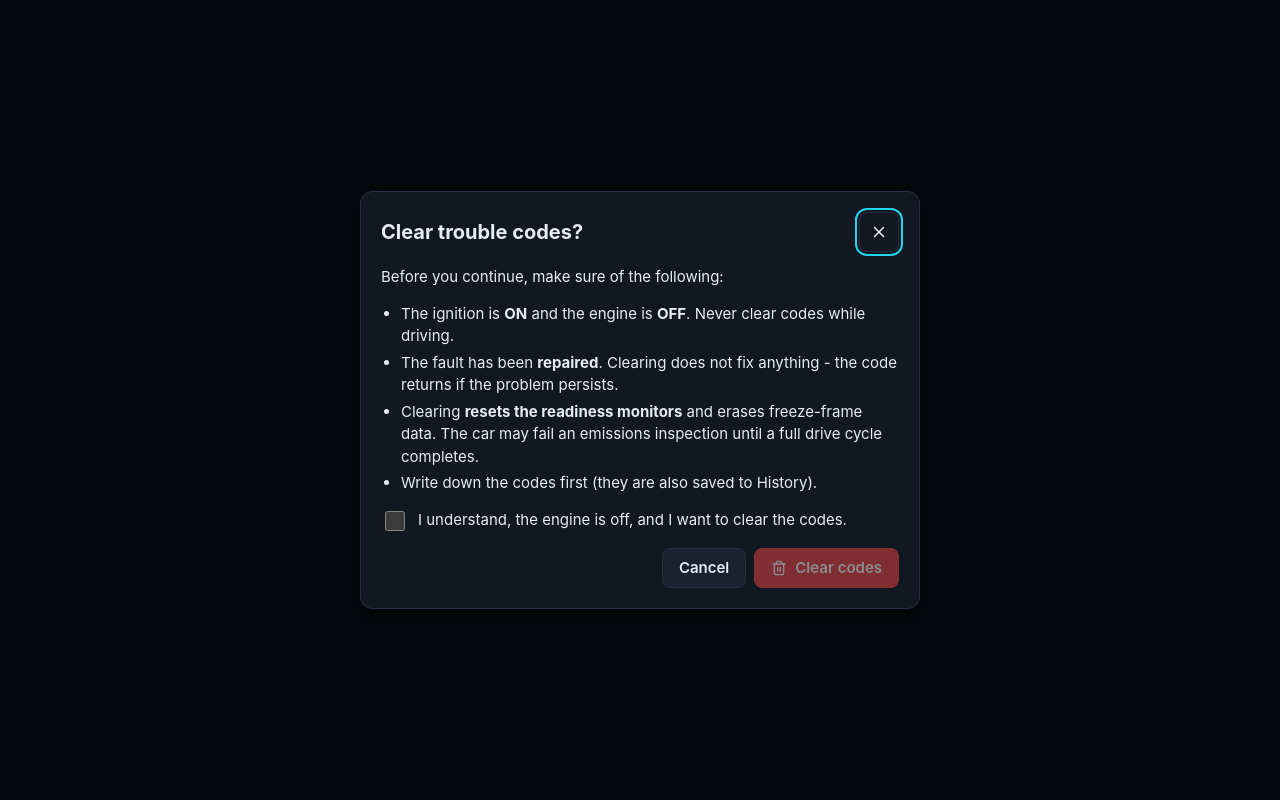
Test: ClearCodesDialog › resets the acknowledgement when re-opened and closes on Escape
The image size is (1280, 800).
Later steps or results of the test are not shown.
Click the checkbox: x=395, y=520 left=385, top=510, right=405, bottom=530
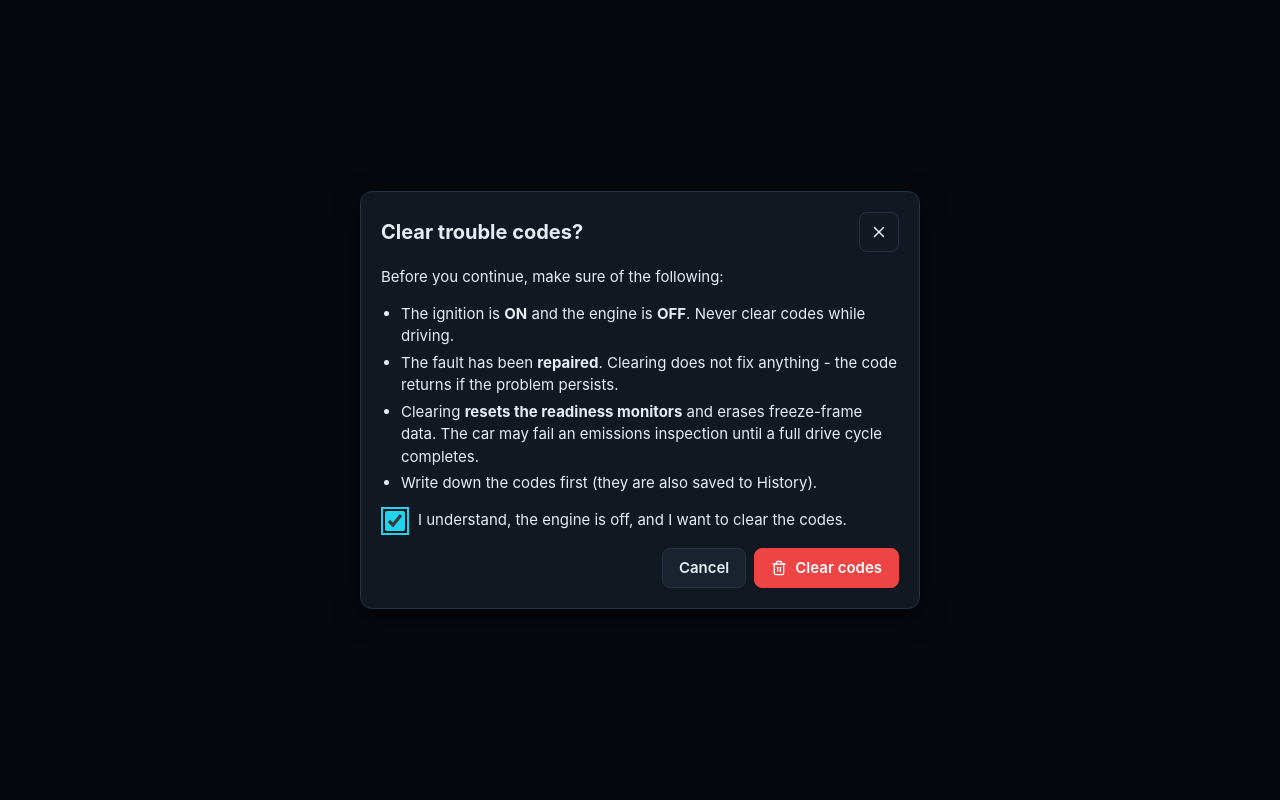
Result: the button "Clear codes" is enabled at left=754, top=548, right=899, bottom=588
